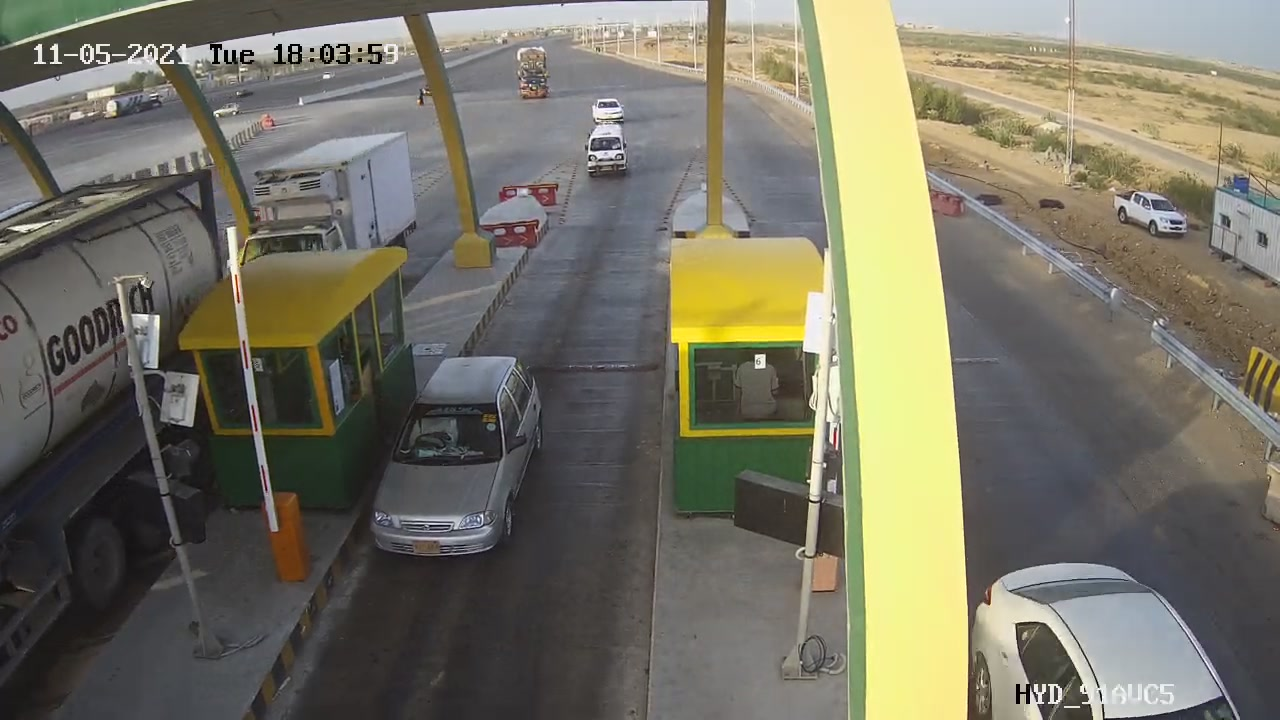F1: (341, 336, 573, 577)
